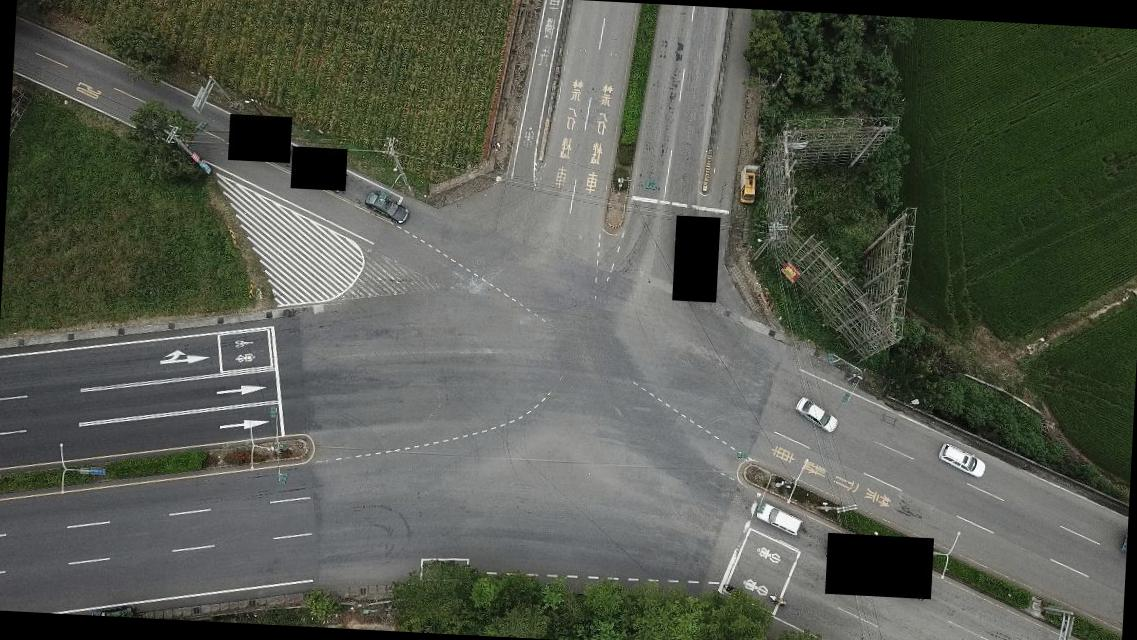vehicle: (936, 444, 986, 481), (794, 396, 840, 434), (360, 192, 410, 225), (756, 502, 802, 536), (737, 170, 761, 206)
